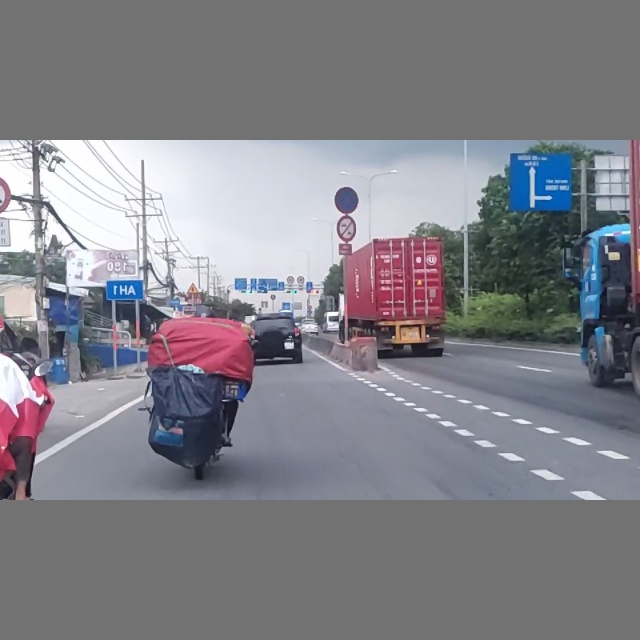P.111: (335, 215, 357, 240)
P.117*: (0, 174, 11, 216)
P.130: (334, 186, 360, 213)
